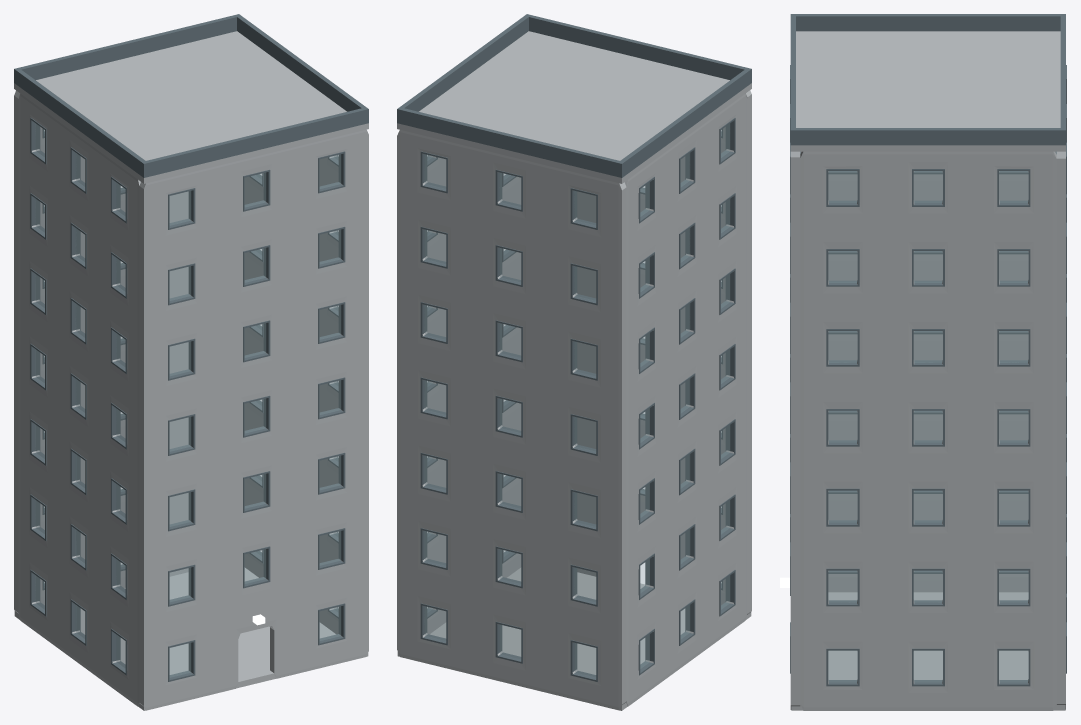
The model's file is block_7_lod0.glb.
3 renders of one model, left to right at view 1: azimuth 30°, elevation 25°; view 2: azimuth 150°, elevation 25°; view 3: azimuth 270°, elevation 25°, orthographic. The views are drawn at different scales.
Visible parts, largest first — view 1: Wall_0 baked, Wall_3 baked, Ceiling baked, Wall_1 baked, Wall_2 baked, Parapet baked, Parapet.002 baked, Floor baked, Parapet.001 baked, Parapet.003 baked, Glazing.013 baked, Glazing.014 baked (+18 smaller); view 2: Wall_1 baked, Wall_3 baked, Ceiling baked, Wall_0 baked, Wall_2 baked, Parapet.002 baked, Parapet baked, Parapet.001 baked, Parapet.003 baked, Floor baked, Glazing.037 baked, Glazing.024 baked (+19 smaller); view 3: Wall_2 baked, Ceiling baked, Wall_3 baked, Wall_0 baked, Wall_1 baked, Parapet.001 baked, Parapet.003 baked, Floor baked, Glazing.041 baked, Glazing.044 baked, Glazing.047 baked, Glazing.050 baked (+19 smaller).
Boxes of the visible parts, bbox=[...] form: Wall_0 baked: bbox=[139, 129, 368, 710]; Wall_3 baked: bbox=[18, 93, 140, 706]; Ceiling baked: bbox=[14, 31, 368, 183]; Wall_1 baked: bbox=[14, 90, 188, 613]; Wall_2 baked: bbox=[244, 155, 338, 634]; Parapet baked: bbox=[141, 107, 368, 177]; Parapet.002 baked: bbox=[14, 14, 241, 84]; Floor baked: bbox=[14, 568, 368, 710]; Parapet.001 baked: bbox=[16, 70, 145, 175]; Parapet.003 baked: bbox=[237, 16, 365, 111]; Glazing.013 baked: bbox=[320, 305, 340, 339]; Glazing.014 baked: bbox=[170, 266, 190, 300]; Wall_1 baked: bbox=[397, 130, 626, 710]; Wall_3 baked: bbox=[624, 93, 747, 706]; Ceiling baked: bbox=[397, 31, 751, 183]; Wall_0 baked: bbox=[577, 90, 751, 614]; Wall_2 baked: bbox=[427, 155, 521, 634]; Parapet.002 baked: bbox=[397, 107, 624, 177]; Parapet baked: bbox=[524, 14, 751, 84]; Parapet.001 baked: bbox=[620, 70, 749, 175]; Parapet.003 baked: bbox=[400, 16, 528, 111]; Floor baked: bbox=[397, 568, 751, 710]; Glazing.037 baked: bbox=[575, 266, 595, 300]; Glazing.024 baked: bbox=[500, 549, 520, 583]; Wall_2 baked: bbox=[800, 151, 1056, 710]; Ceiling baked: bbox=[790, 31, 1065, 151]; Wall_3 baked: bbox=[801, 151, 1028, 592]; Wall_0 baked: bbox=[790, 151, 800, 709]; Wall_1 baked: bbox=[1056, 151, 1065, 709]; Parapet.001 baked: bbox=[796, 14, 1060, 31]; Parapet.003 baked: bbox=[796, 128, 1060, 145]; Floor baked: bbox=[791, 592, 1065, 710]; Glazing.041 baked: bbox=[828, 651, 857, 682]; Glazing.044 baked: bbox=[828, 571, 857, 602]; Glazing.047 baked: bbox=[828, 491, 857, 522]; Glazing.050 baked: bbox=[828, 411, 857, 442].
Size of the model in its own units: 10.05 by 23.25 by 10.4.
